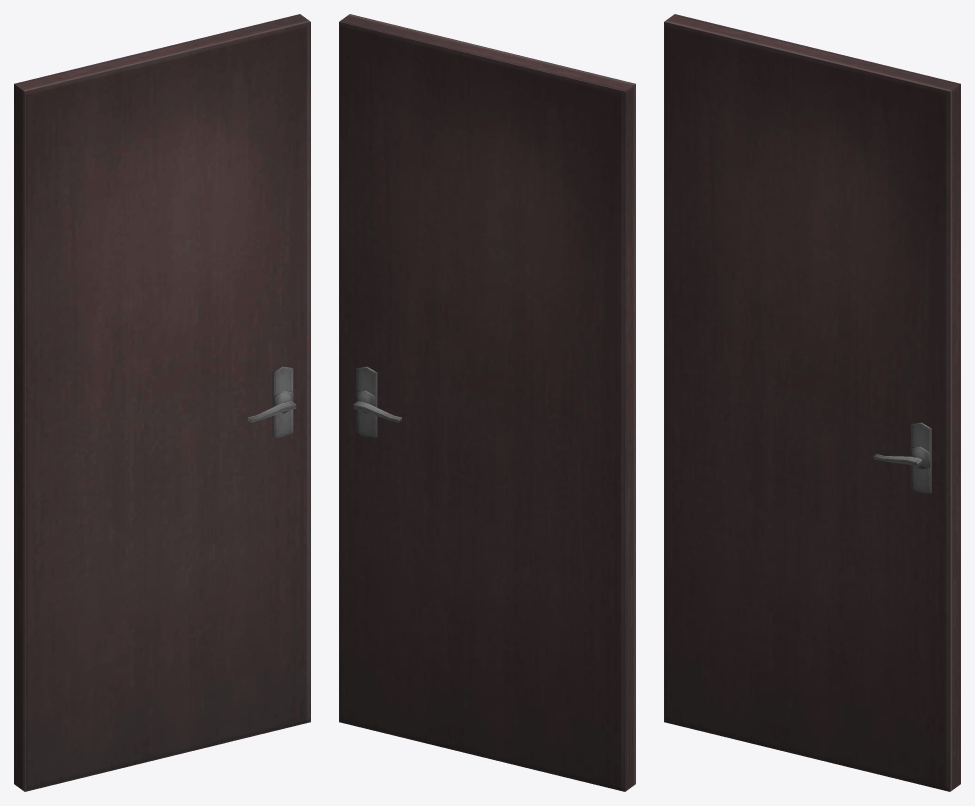
The model's file is door.fbx.
3 renders of one model, left to right at view 1: azimuth 30°, elevation 25°; view 2: azimuth 150°, elevation 25°; view 3: azimuth 330°, elevation 25°, orthographic.
Visible parts, largest first — view 1: IS4_P1_PuertaControl_4; view 2: IS4_P1_PuertaControl_4; view 3: IS4_P1_PuertaControl_4.
Part boxes in pixels (bbox=[...]): IS4_P1_PuertaControl_4: bbox=[14, 14, 310, 791]; IS4_P1_PuertaControl_4: bbox=[339, 14, 635, 791]; IS4_P1_PuertaControl_4: bbox=[664, 14, 960, 791].
Size of the model in its own units: 34.96 by 81.73 by 6.17.
